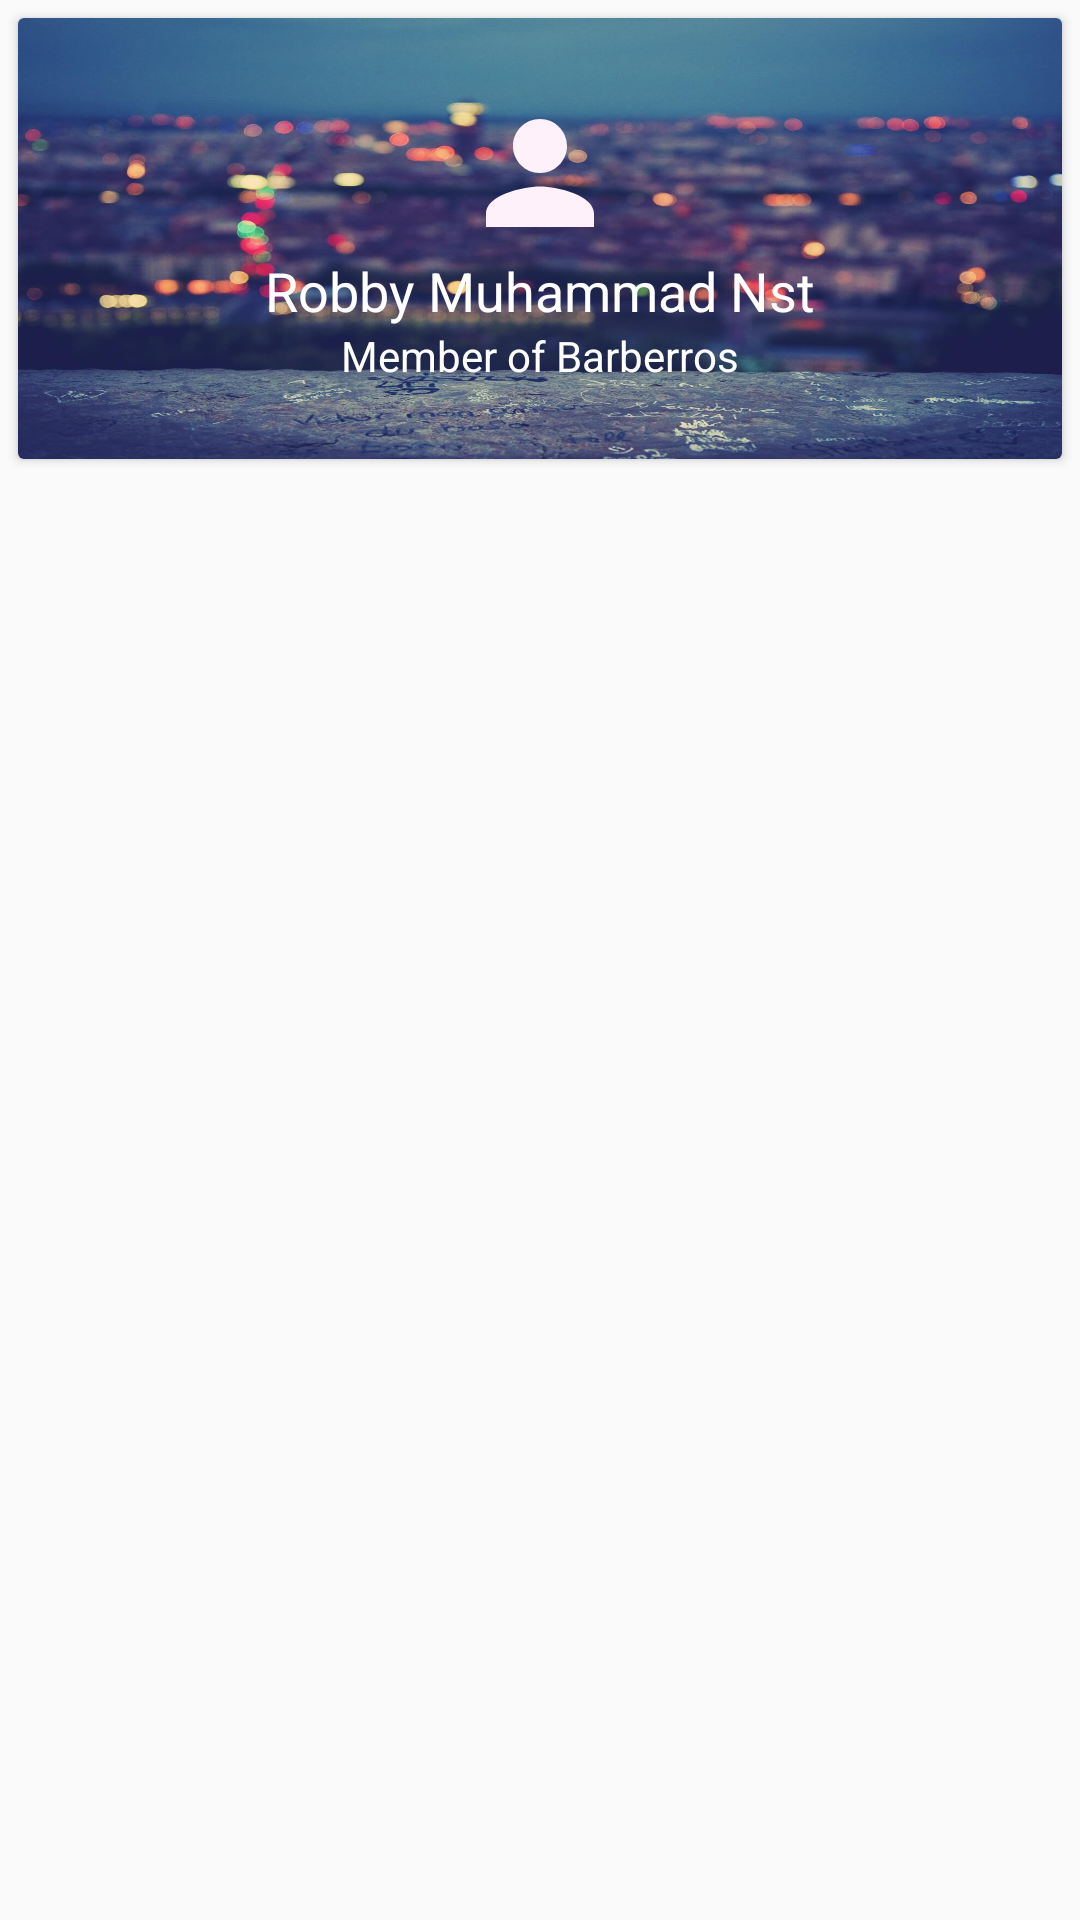

Point at icon controls on the screen. Image size 1080px x 1920px, points as point (x, y).
person: point (540, 173)
